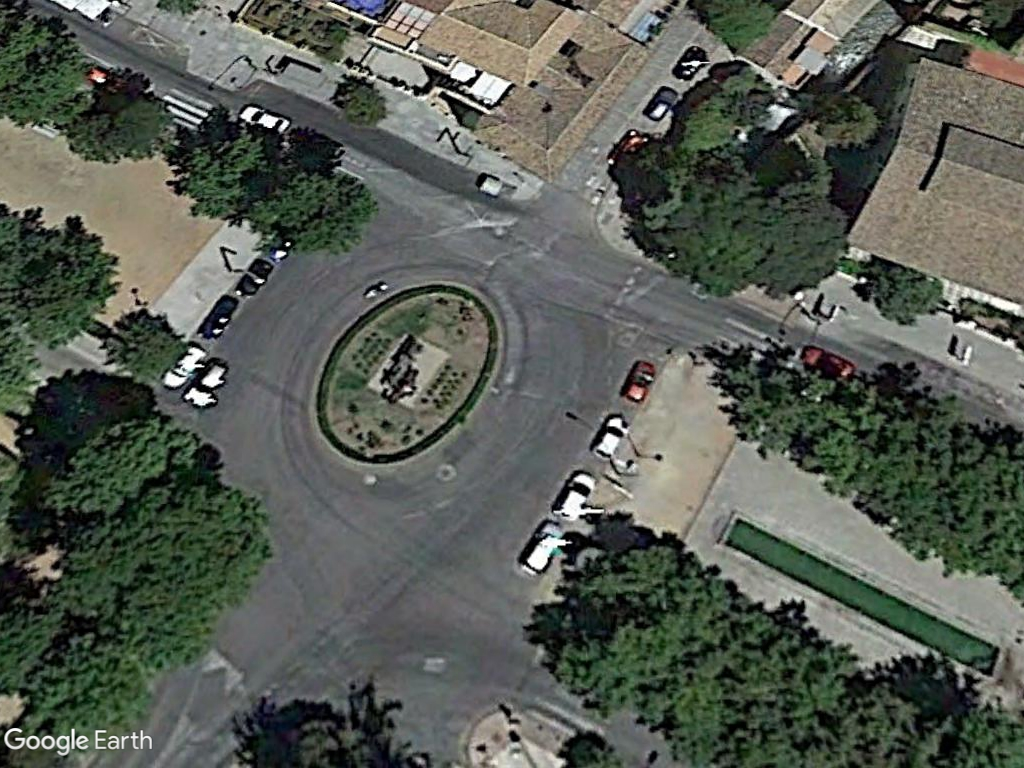car: (520, 513, 566, 581), (550, 466, 599, 527), (799, 340, 861, 382), (591, 408, 631, 463), (235, 100, 292, 137), (620, 355, 657, 406), (672, 40, 711, 85), (645, 77, 679, 127)
